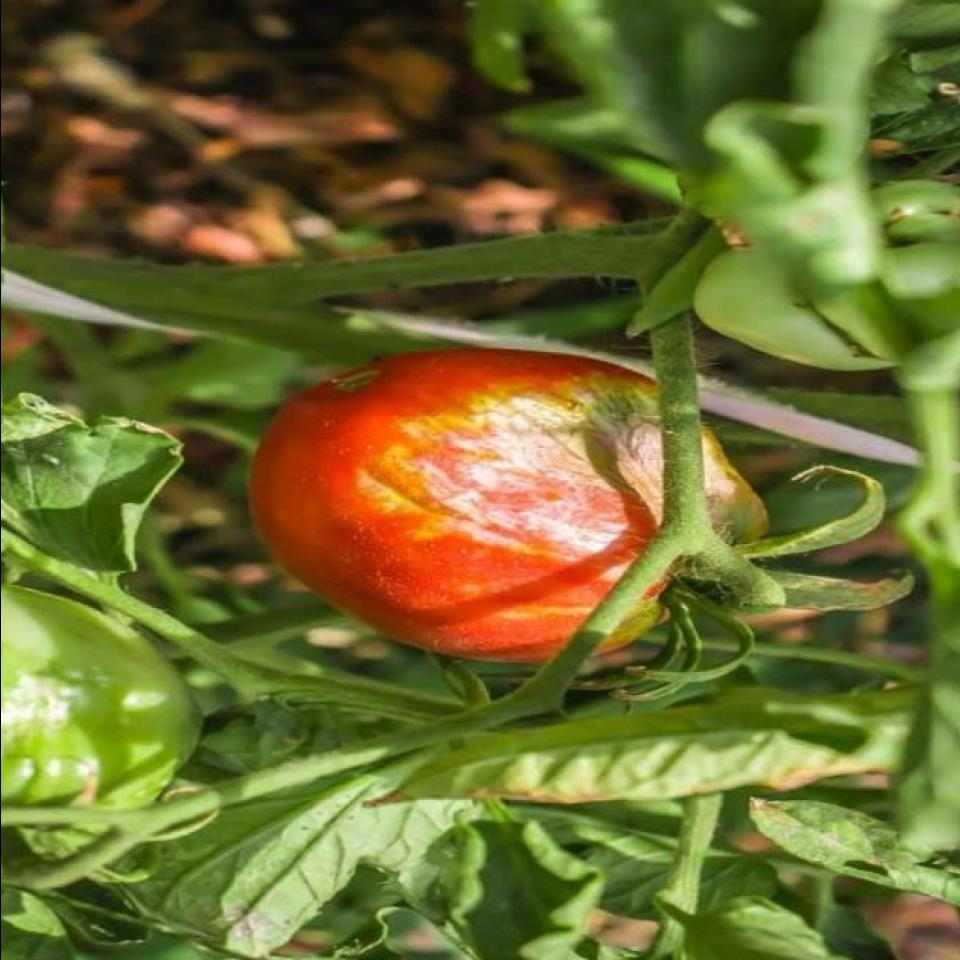Sunscald: (228, 235, 717, 794)
